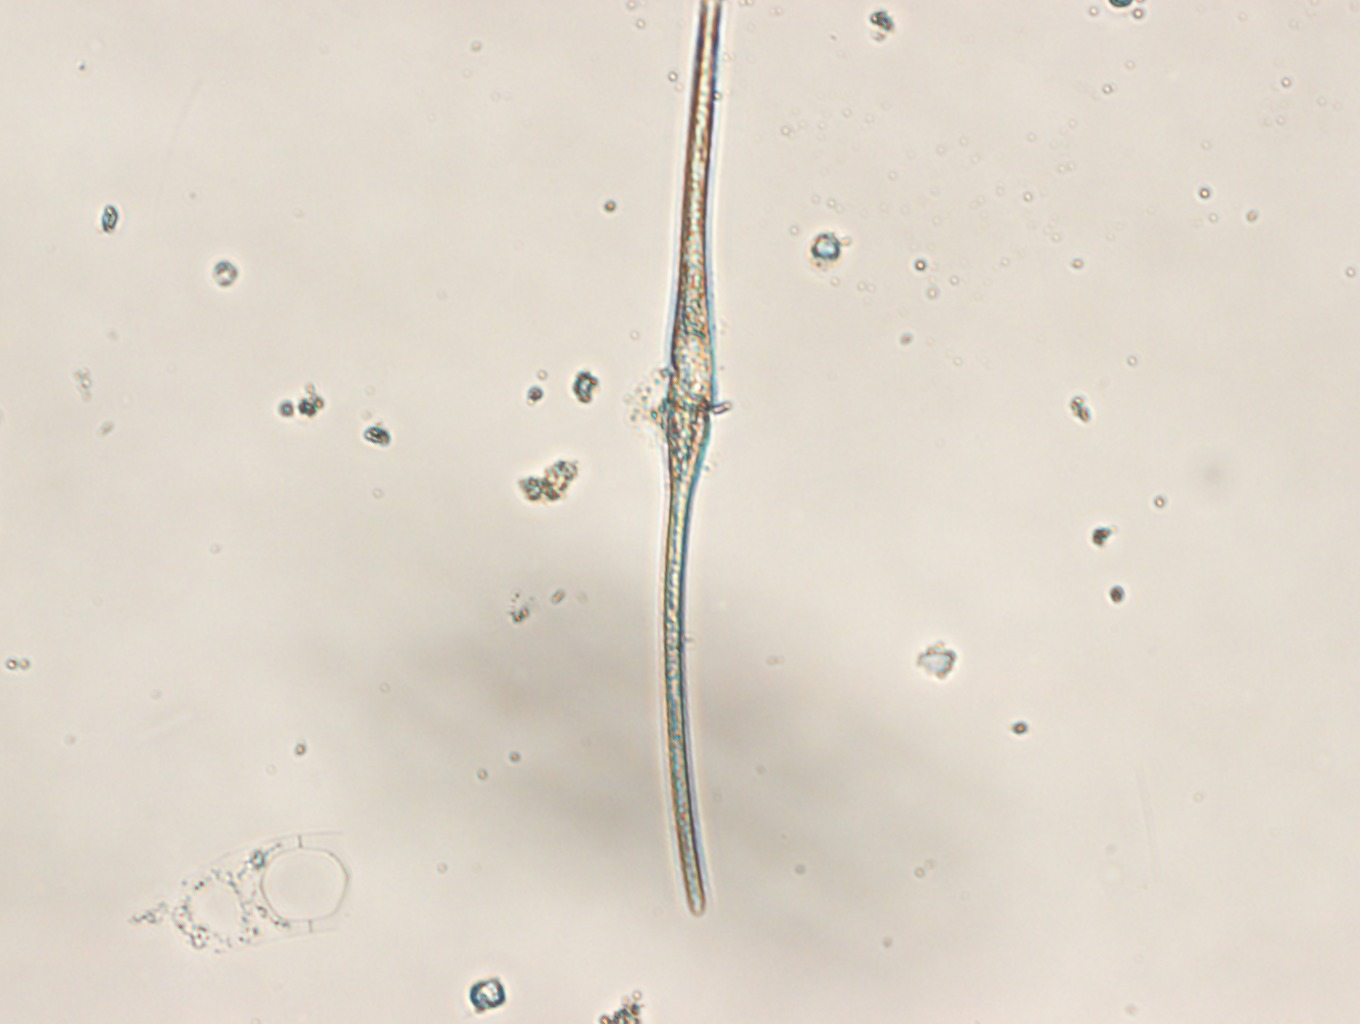ceratium fusus: (660, 1, 724, 914)
